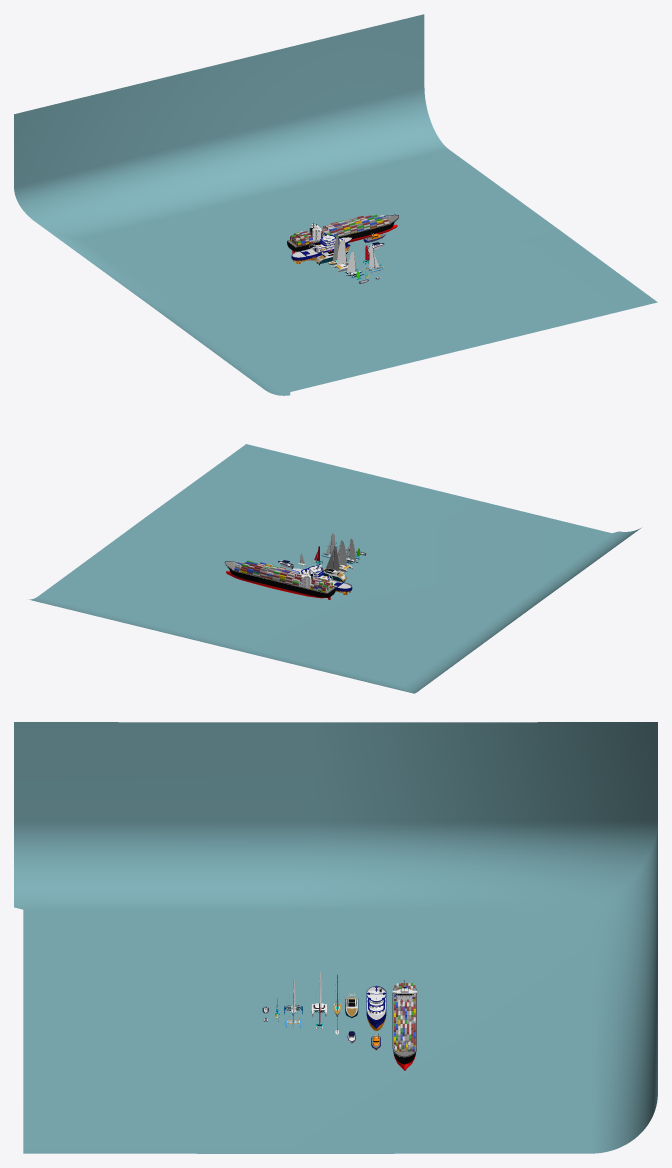
Rendered from boats.glb.
3 renders of one model, top to bottom at view 1: azimuth 30°, elevation 25°; view 2: azimuth 150°, elevation 25°; view 3: azimuth 270°, elevation 25°, orthographic. The views are drawn at different scales.
Parts seen in each view (by area): view 1: Plane.005, Cube.004, Gear, Cube.014; view 2: Plane.005, Cube.004, Gear, Cube.014; view 3: Plane.005, Cube.004, Cube.014, Gear.
Part boxes in pixels (x1=…): Plane.005: x1=14, y1=14, x2=657, y2=395; Cube.004: x1=290, y1=214, x2=389, y2=246; Gear: x1=287, y1=213, x2=398, y2=253; Cube.014: x1=291, y1=232, x2=352, y2=263; Plane.005: x1=29, y1=444, x2=640, y2=693; Cube.004: x1=234, y1=560, x2=332, y2=592; Gear: x1=224, y1=560, x2=335, y2=599; Cube.014: x1=291, y1=563, x2=352, y2=594; Plane.005: x1=14, y1=722, x2=657, y2=1153; Cube.004: x1=394, y1=983, x2=415, y2=1051; Cube.014: x1=366, y1=984, x2=386, y2=1030; Gear: x1=392, y1=988, x2=416, y2=1070.
Bounding box in the file's own units: 28609 × 7807 × 28581.
